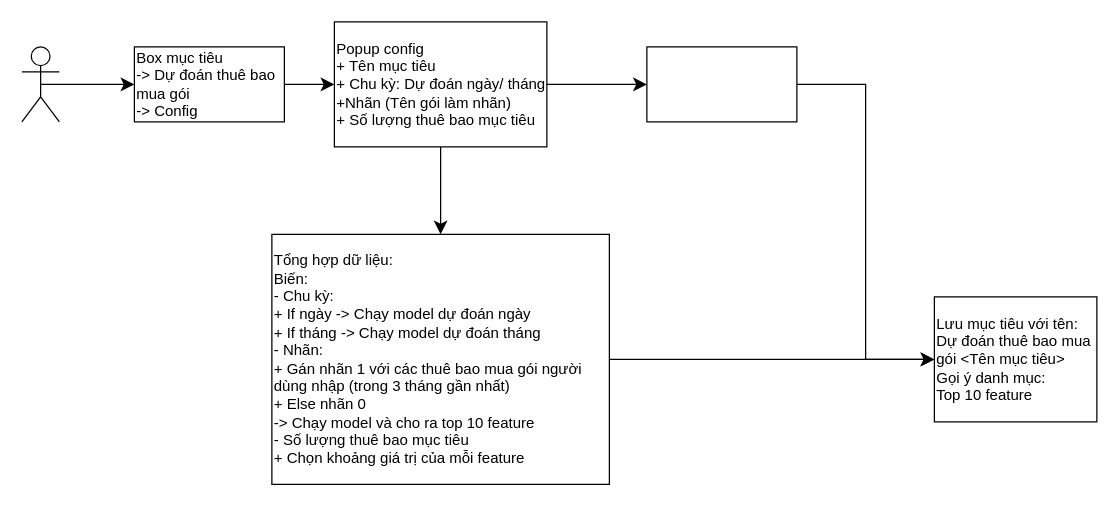
This 1119x506 diagram has some shape labels left out. The box of each missing label's shape, as (x1, y1, x2, y2) in pixels:
Actor: (21, 46, 59, 122)
Lưu mục tiêu với tên: Dự đoán thuê bao mua gói <Tên mục tiêu>: (646, 46, 797, 122)
